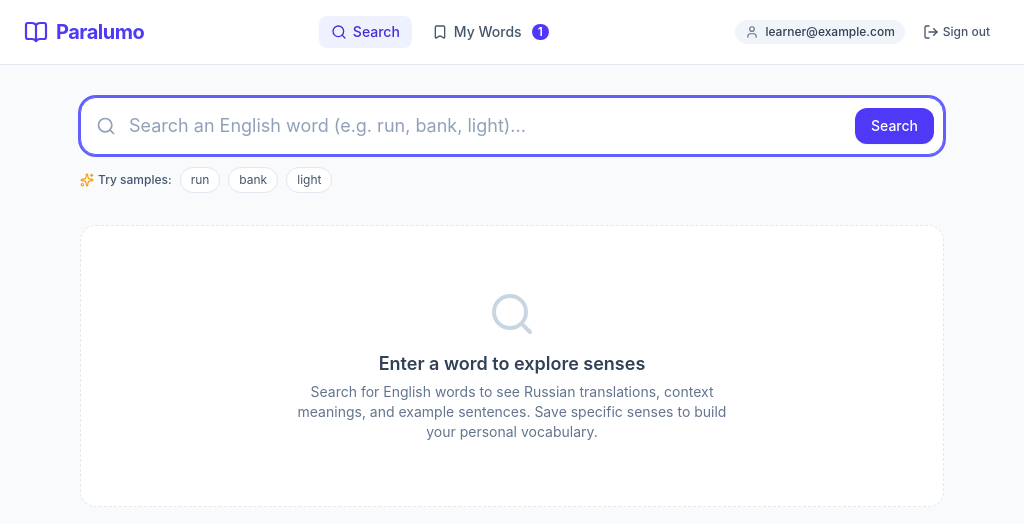
Paralumo App › navigates to My Words page and displays saved cards
The width and height of the screenshot is (1024, 524).
What coordinates should you click on to do the following:
click the link "My Words 1"
I would click on:
 (490, 32)
Its box is [432, 23, 549, 40].
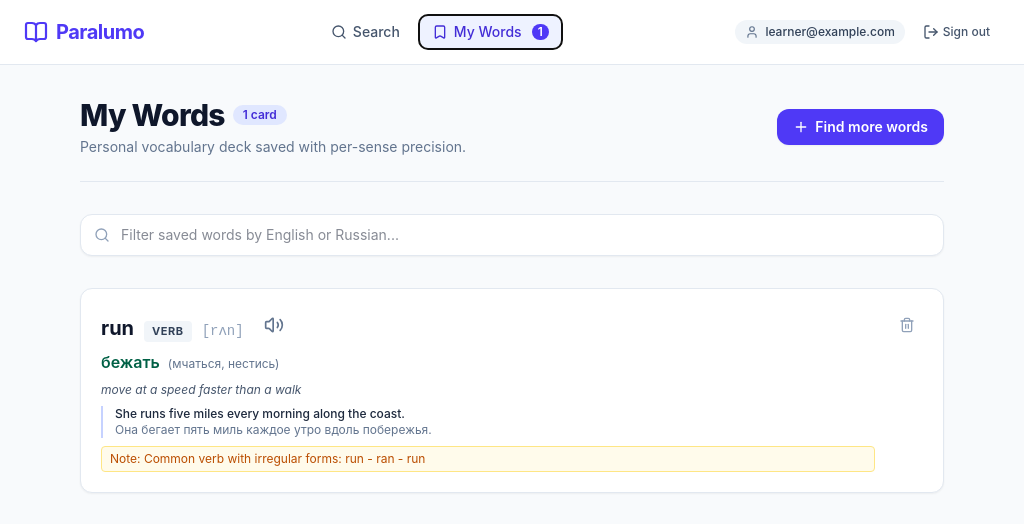
Expected: the heading "My Words" is shown, [80, 97, 225, 133]
Expected: the text "Personal vocabulary deck saved with per-sense precision." is shown, [80, 137, 466, 157]
